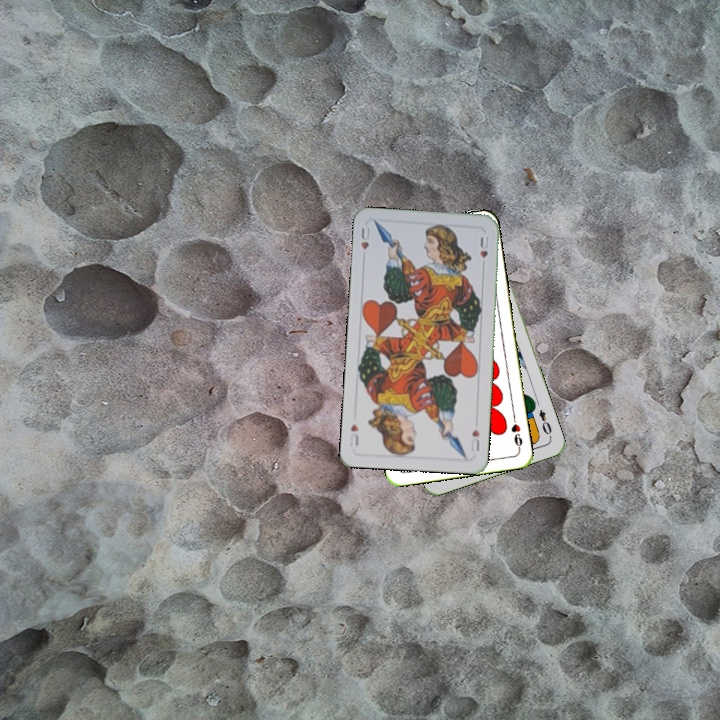EO: (535, 405, 554, 440)
H9: (507, 412, 525, 452)
HU: (467, 425, 482, 454), (357, 223, 372, 252)
